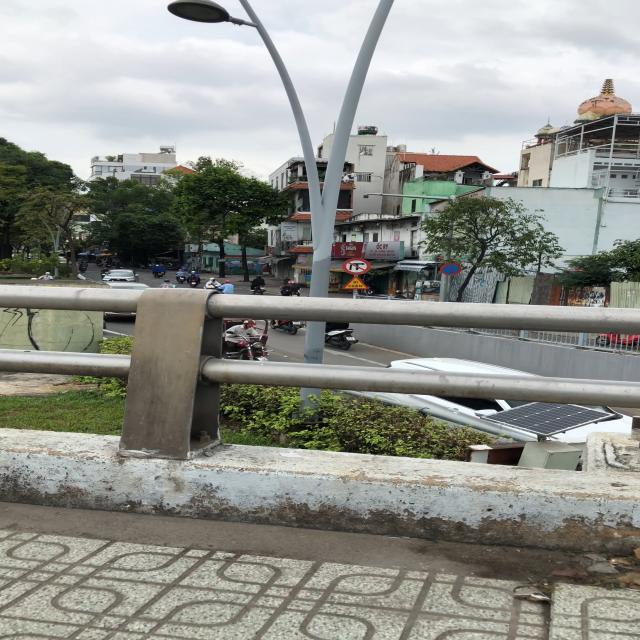Bien bao cam re phai va quay dau: (340, 256, 373, 276)
